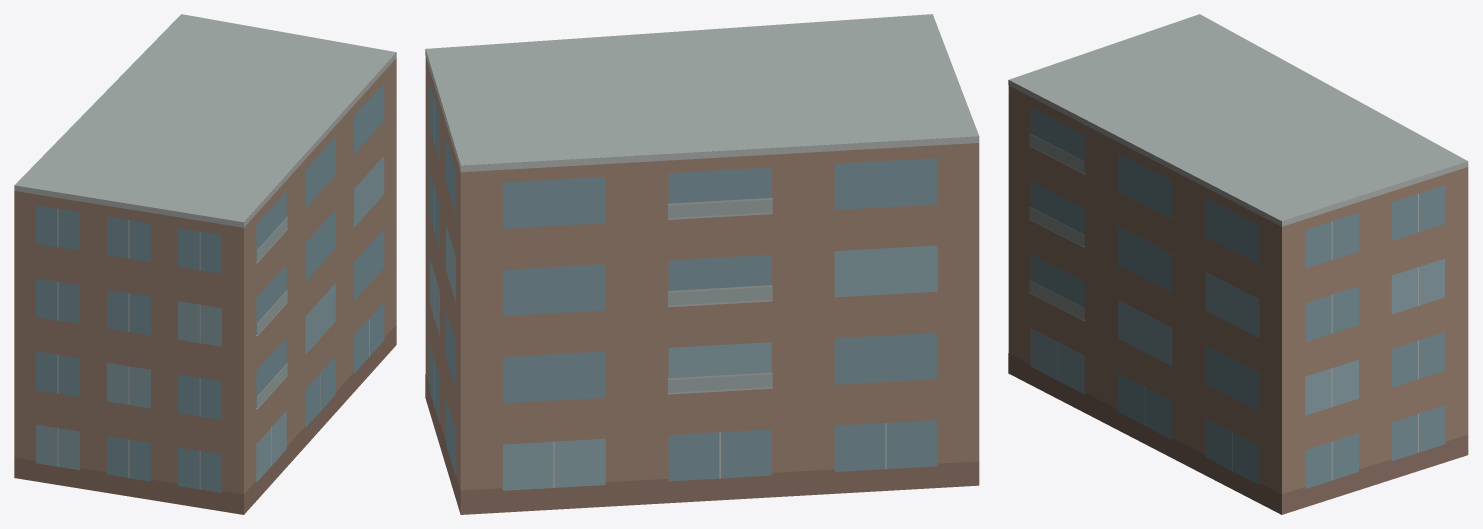
The model's file is survey-upis-32732694.glb.
3 renders of one model, left to right at view 1: azimuth 30°, elevation 25°; view 2: azimuth 150°, elevation 25°; view 3: azimuth 270°, elevation 25°, orthographic. The views are drawn at different scales.
Visible parts, largest first — view 1: survey-upis-32732694.tmp; view 2: survey-upis-32732694.tmp; view 3: survey-upis-32732694.tmp.
Boxes of the visible parts, bbox=[...] form: survey-upis-32732694.tmp: bbox=[14, 14, 396, 514]; survey-upis-32732694.tmp: bbox=[425, 14, 979, 514]; survey-upis-32732694.tmp: bbox=[1008, 14, 1468, 514].
Size of the model in its own units: 19.53 by 12.9 by 18.31.
